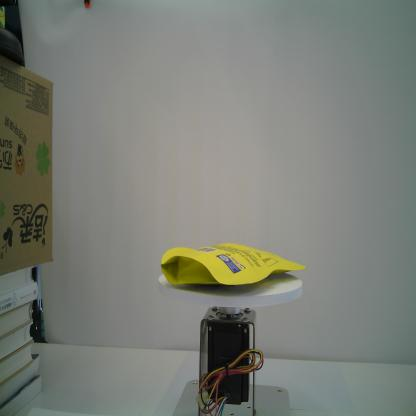Dried Fruit: (160, 242, 307, 286)
